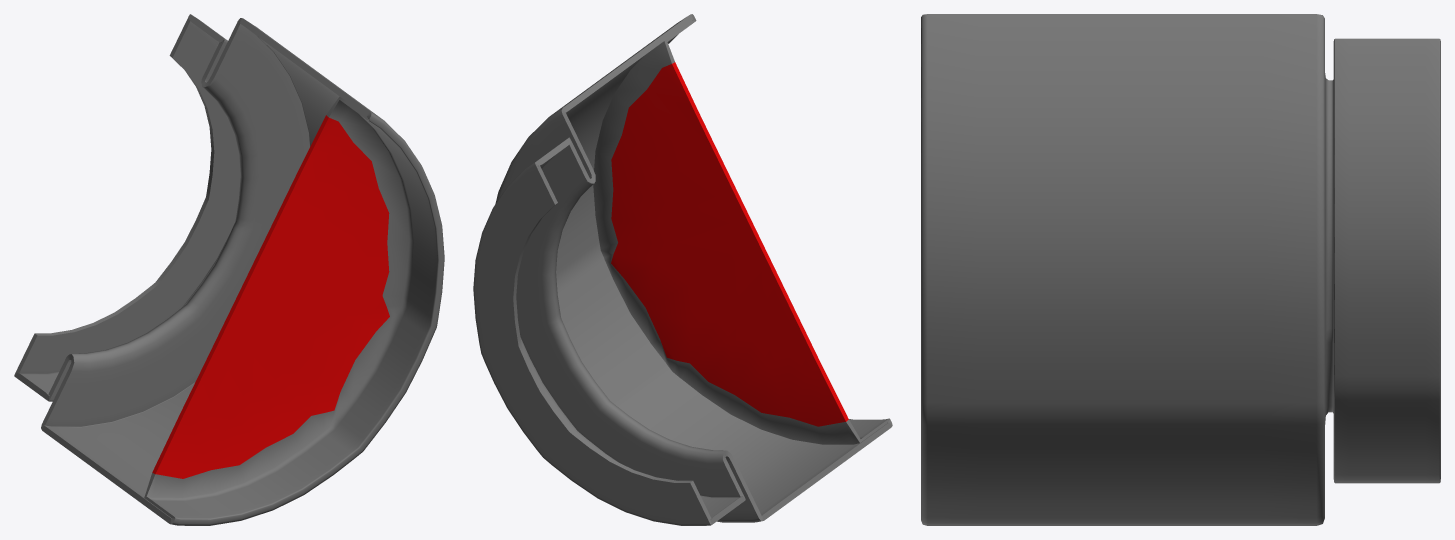
Rendered from Fan01_Broken_50.fbx.
The picture shows the model from 3 angles, left to right: view 1: azimuth 30°, elevation 25°; view 2: azimuth 150°, elevation 25°; view 3: azimuth 270°, elevation 25°; orthographic projection. The views are drawn at different scales.
Visible parts, largest first — view 1: polySurface249; view 2: polySurface249; view 3: polySurface249.
Boxes of the visible parts, x1,y1,x2,y2 form: polySurface249: (14, 14, 444, 525); polySurface249: (473, 14, 892, 525); polySurface249: (921, 14, 1440, 525).
Size of the model in its own units: 13.26 by 17.43 by 14.26.
